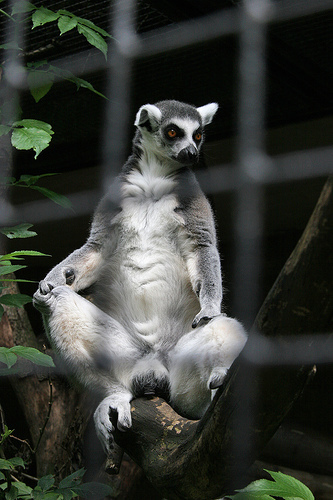cat: (28, 93, 252, 461)
